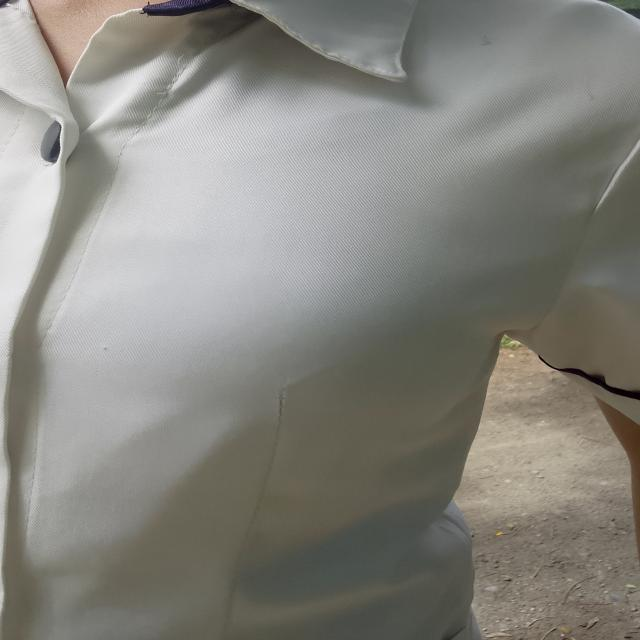education_female_uniform: (3, 4, 640, 636)
